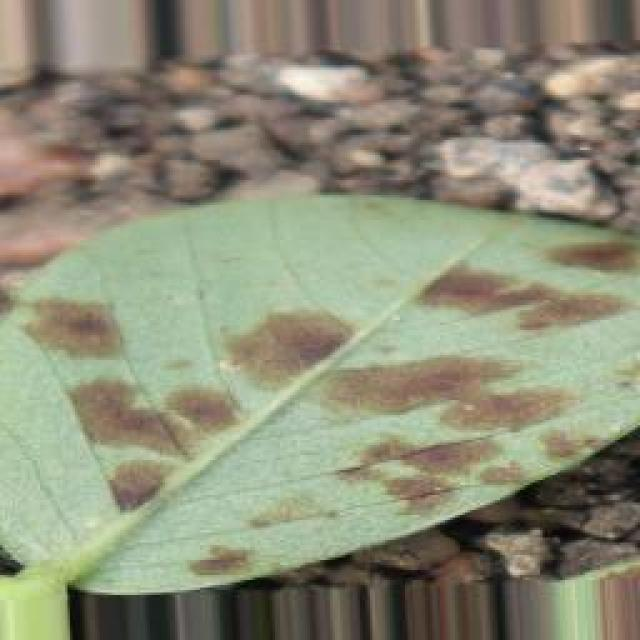Whitefly: (5, 208, 640, 572)
